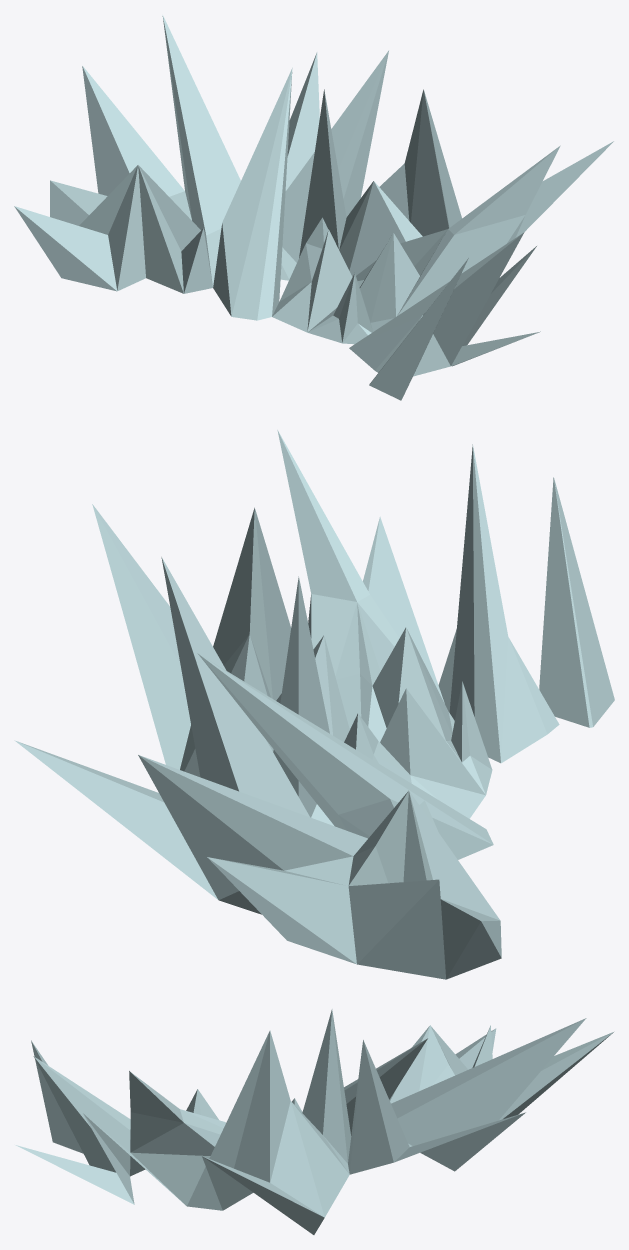
Rendered from spikesBig01.fbx.
3 views of the same model, one above another, from view 1: azimuth 30°, elevation 25°; view 2: azimuth 150°, elevation 25°; view 3: azimuth 270°, elevation 25° (orthographic). The views are drawn at different scales.
Visible parts, largest first — view 1: polySurface4; view 2: polySurface4; view 3: polySurface4.
Boxes of the visible parts, x1,y1,x2,y2 form: polySurface4: (14,15,613,400); polySurface4: (14,430,614,979); polySurface4: (15,1009,614,1234).
Bounding box in the file's own units: 0.4789 × 0.2271 × 0.6168.
